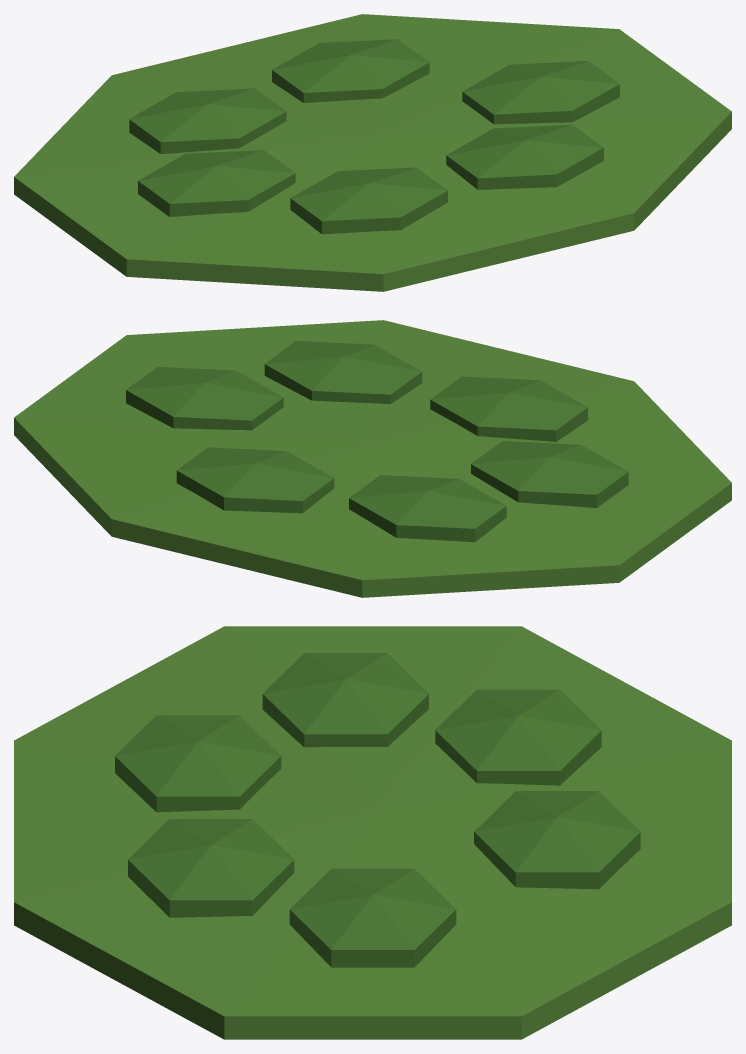
File: moss_patch.glb
The picture shows the model from 3 angles, top to bottom: view 1: azimuth 30°, elevation 25°; view 2: azimuth 150°, elevation 25°; view 3: azimuth 270°, elevation 25°; orthographic projection. The views are drawn at different scales.
Visible parts, largest first — view 1: moss_patch; view 2: moss_patch; view 3: moss_patch.
Part boxes in pixels (x1=…): moss_patch: x1=14, y1=14, x2=731, y2=291; moss_patch: x1=14, y1=320, x2=731, y2=597; moss_patch: x1=14, y1=626, x2=731, y2=1039.
Size of the model in its own units: 1.44 by 0.12 by 1.12.
